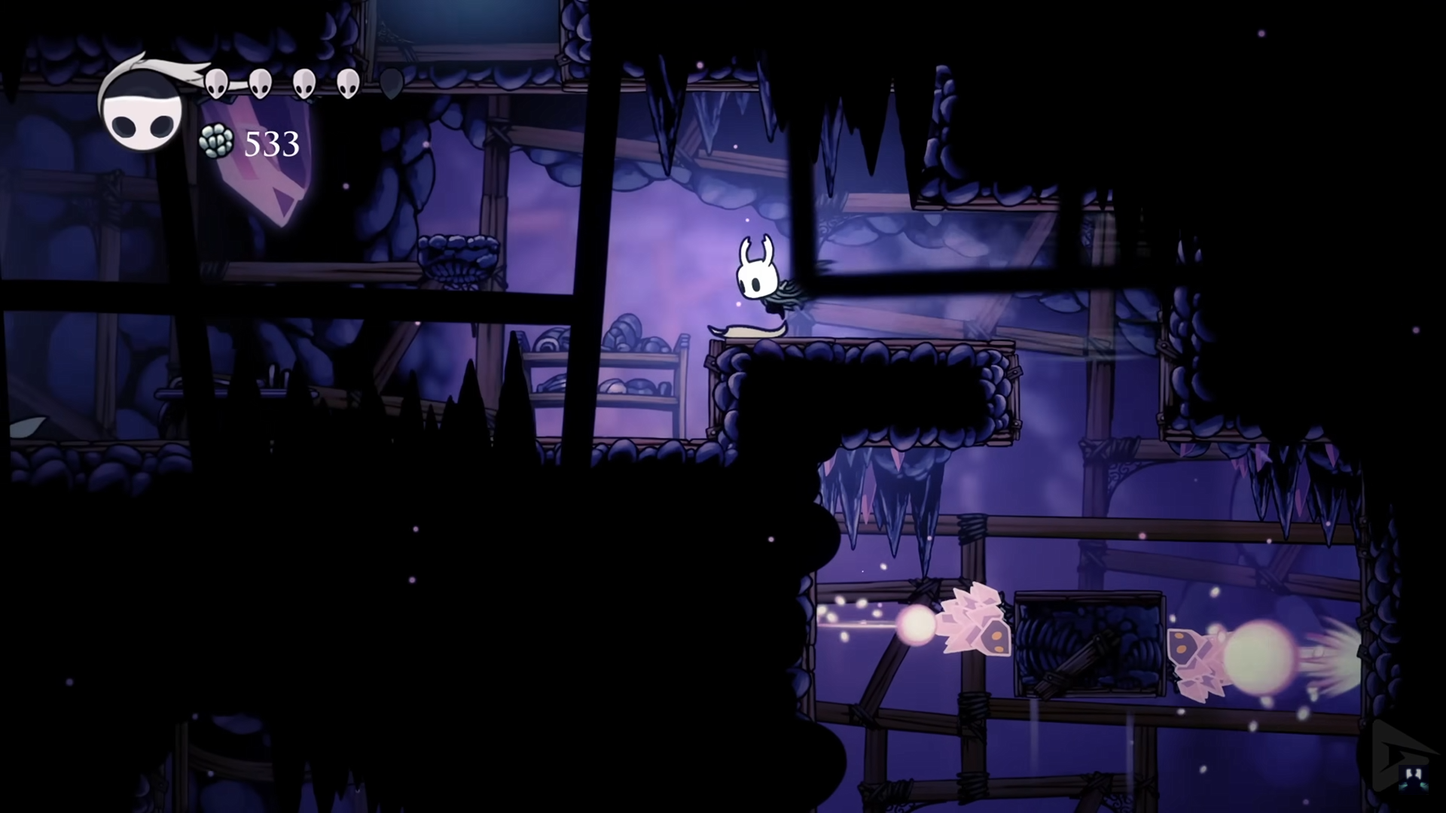HK: (733, 232, 792, 324)
